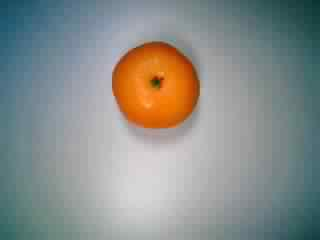orange: (108, 33, 203, 135)
